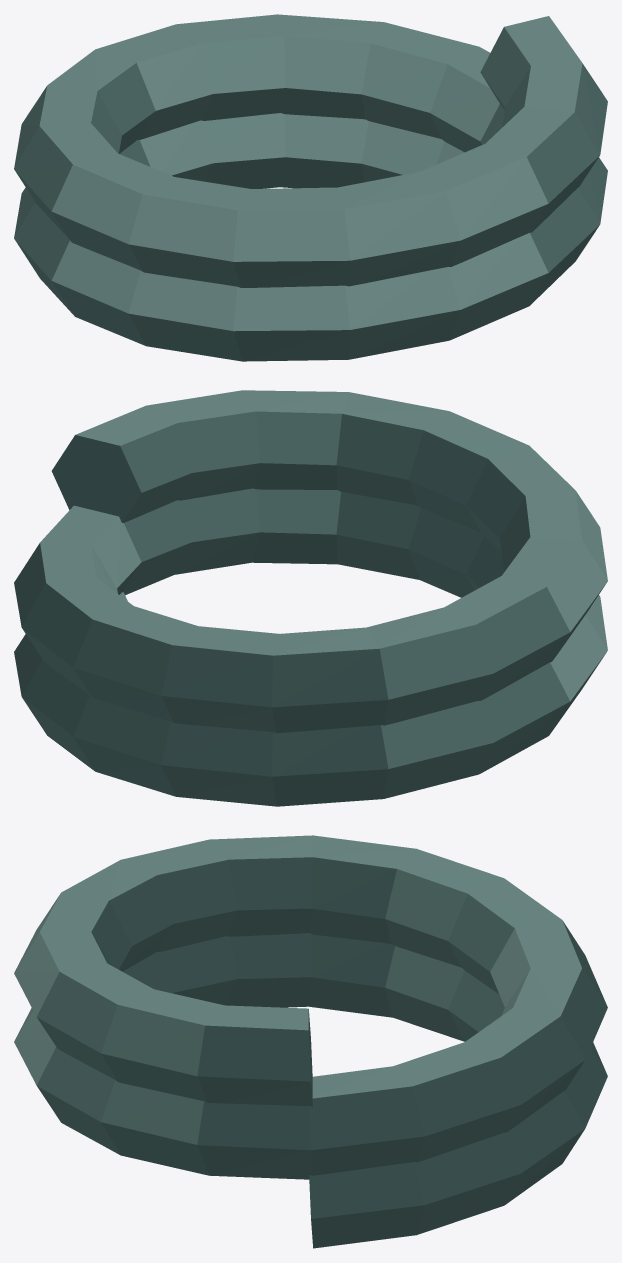
The model's file is Spring_Coil.gltf.
3 renders of one model, top to bottom at view 1: azimuth 30°, elevation 25°; view 2: azimuth 150°, elevation 25°; view 3: azimuth 270°, elevation 25°, orthographic.
Parts seen in each view (by area): view 1: Spring_Coil_baked; view 2: Spring_Coil_baked; view 3: Spring_Coil_baked.
Boxes of the visible parts, x1,y1,x2,y2 form: Spring_Coil_baked: (14,14,607,361); Spring_Coil_baked: (14,390,607,806); Spring_Coil_baked: (14,835,607,1248).
Bounding box in the file's own units: 0.484 × 0.1962 × 0.484.
